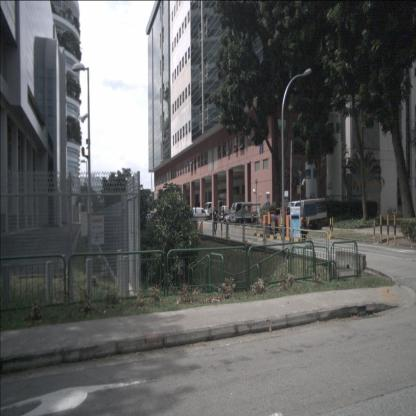cone: (193, 224, 196, 233), (199, 223, 201, 233)
